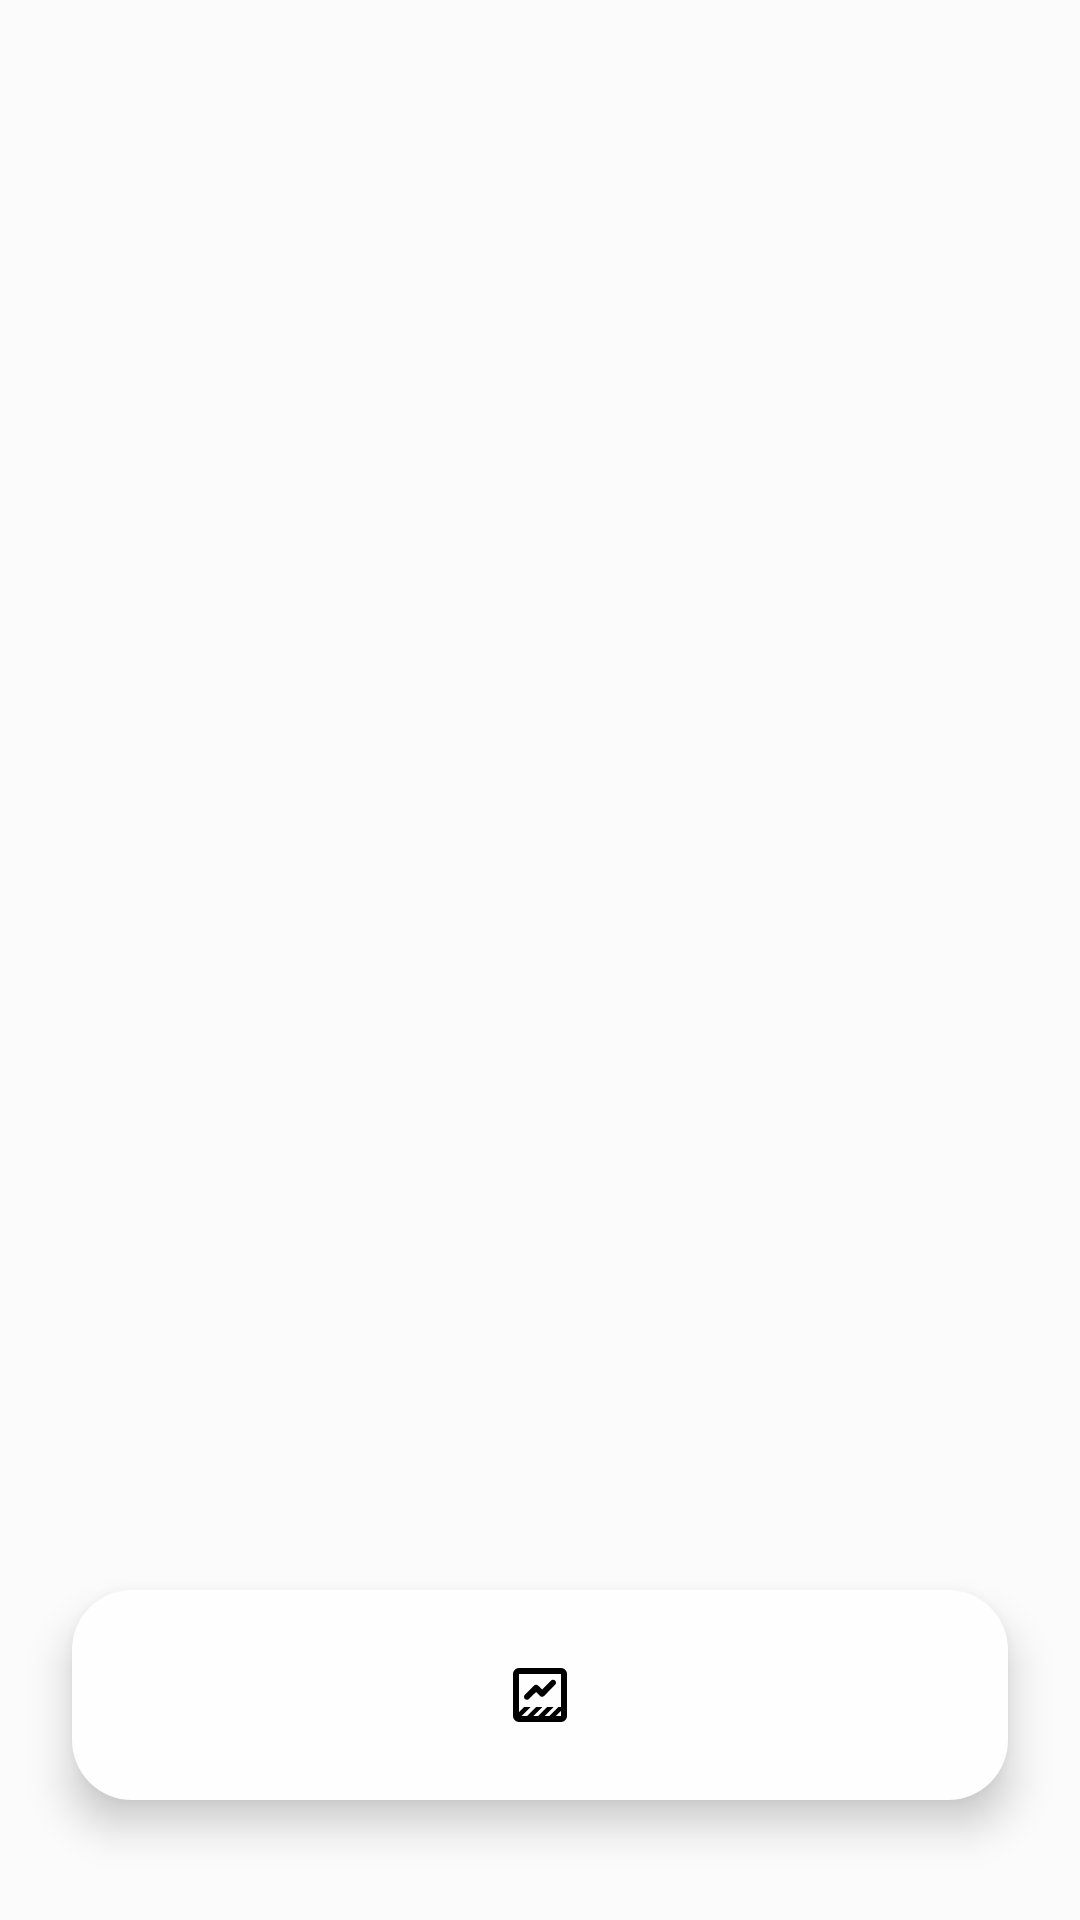

Where icons sit on this 1080w x 1920h app screen, as [x1, y1, x2, y2]:
statistics: [513, 1668, 567, 1722]
